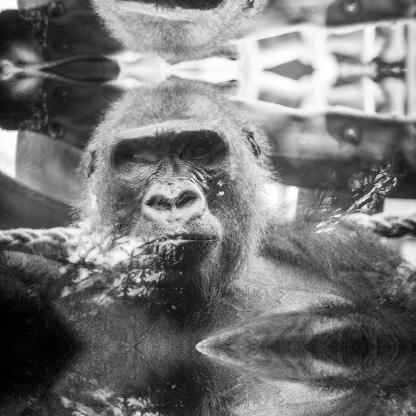Monkey: (0, 76, 415, 347), (0, 347, 415, 415), (0, 0, 415, 63)
